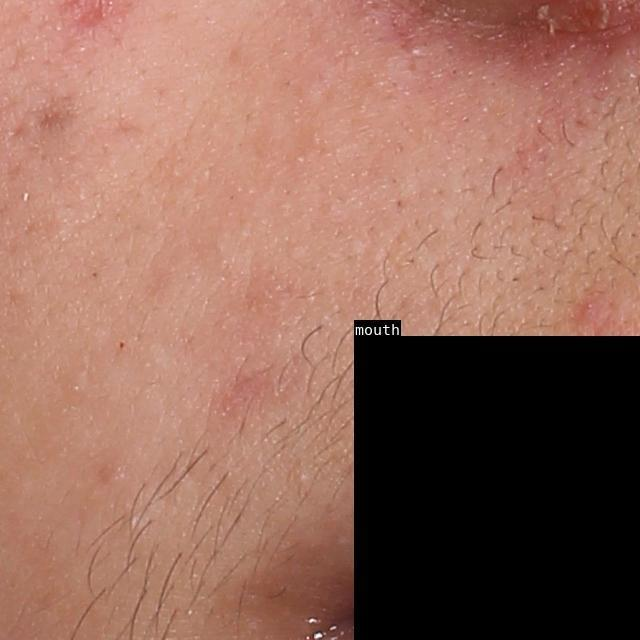comedo: (292, 466, 312, 485)
